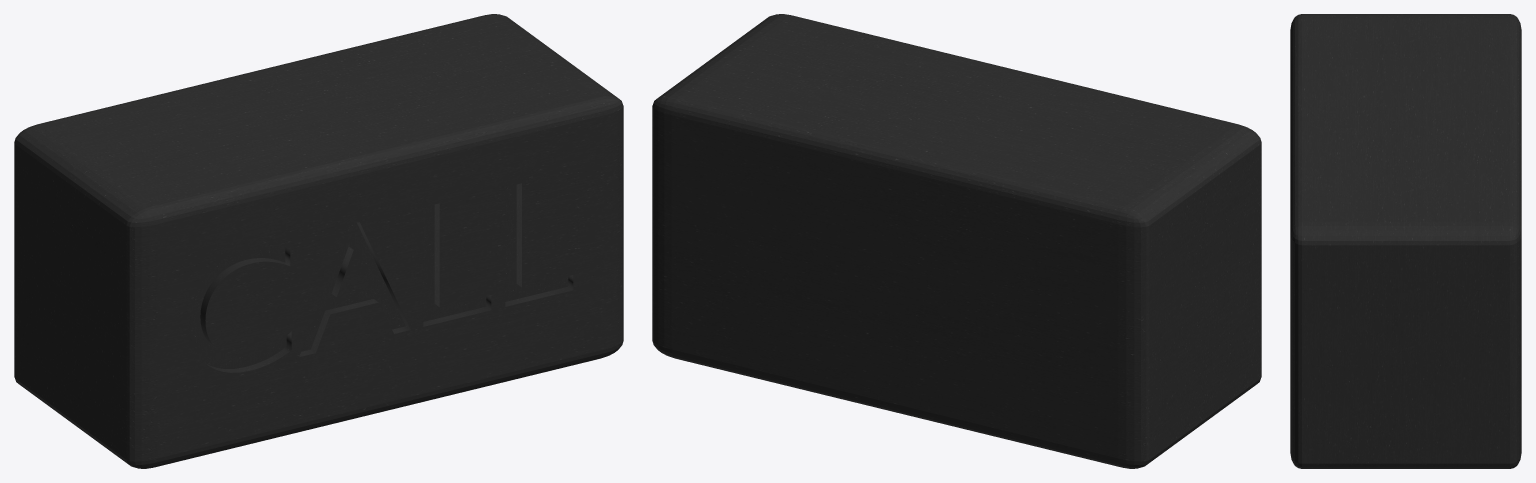
The model's file is btn_call.glb.
The picture shows the model from 3 angles, left to right: view 1: azimuth 30°, elevation 25°; view 2: azimuth 150°, elevation 25°; view 3: azimuth 270°, elevation 25°; orthographic projection. The views are drawn at different scales.
Parts seen in each view (by area): view 1: Cube.004; view 2: Cube.004; view 3: Cube.004.
Boxes of the visible parts, bbox=[...] form: Cube.004: bbox=[14, 14, 623, 468]; Cube.004: bbox=[652, 14, 1261, 468]; Cube.004: bbox=[1290, 14, 1521, 468].
Bounding box in the file's own units: 3.42 × 1.71 × 1.48.
Materials: 2 (2 with a texture image).
